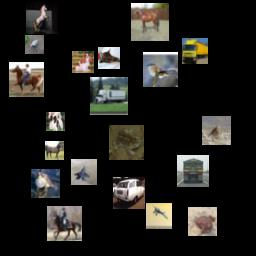airplane: (146, 203, 172, 229), (71, 159, 97, 185)
automobile: (113, 177, 145, 209)
bird: (143, 52, 178, 87), (202, 116, 231, 145), (25, 35, 44, 54)
cat: (98, 47, 120, 69)
dog: (72, 51, 94, 73), (46, 112, 65, 131)
frog: (109, 125, 144, 160), (188, 207, 217, 236), (31, 169, 60, 198)
truck: (90, 77, 128, 115), (177, 155, 209, 187), (182, 38, 208, 64)
